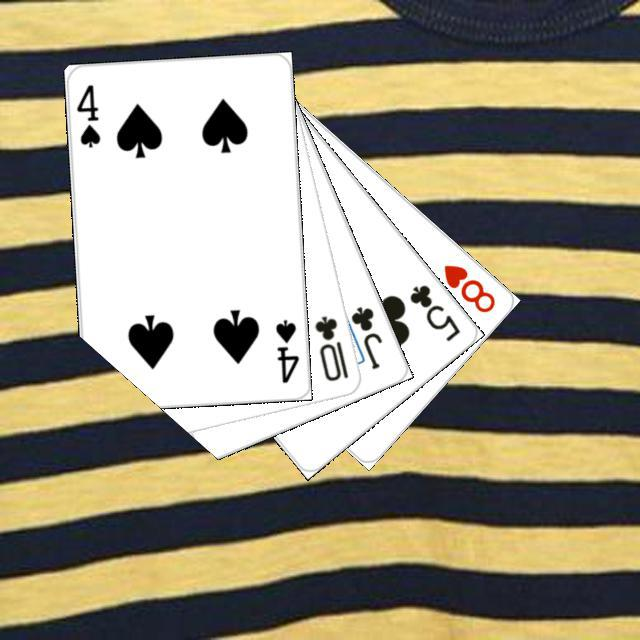10c: (310, 311, 350, 383)
4s: (270, 314, 301, 385), (71, 79, 102, 150)
5c: (404, 279, 462, 343)
8h: (438, 259, 497, 315)
Jc: (345, 301, 384, 371)
